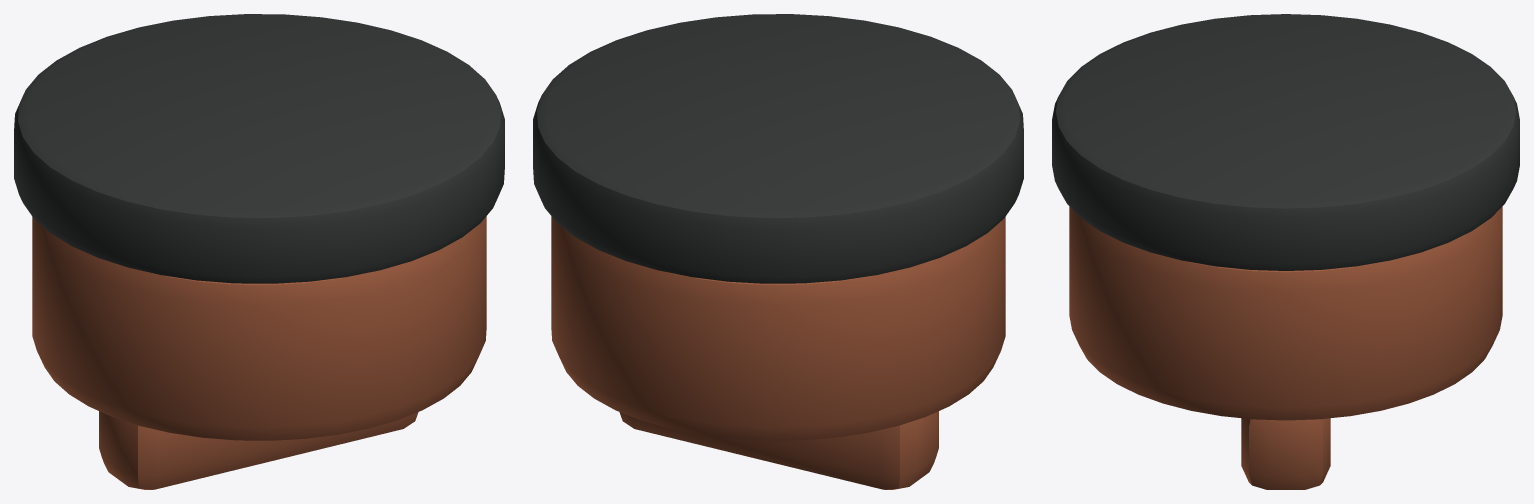
File: toaster_browning_dial.glb
3 renders of one model, left to right at view 1: azimuth 30°, elevation 25°; view 2: azimuth 150°, elevation 25°; view 3: azimuth 270°, elevation 25°, orthographic. The views are drawn at different scales.
Parts seen in each view (by area): view 1: toaster_browning_dial_x; view 2: toaster_browning_dial_x; view 3: toaster_browning_dial_x.
Part boxes in pixels (box(x1,y1,x2,y2)): toaster_browning_dial_x: box(14, 14, 504, 489); toaster_browning_dial_x: box(533, 14, 1023, 489); toaster_browning_dial_x: box(1052, 14, 1519, 489).
Bounding box in the file's own units: 0.0367 × 0.028 × 0.0367.
